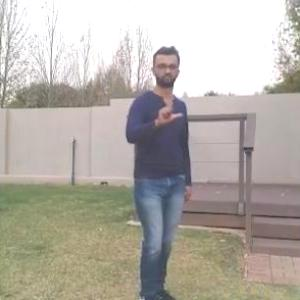land_hand: (154, 93, 182, 127)
